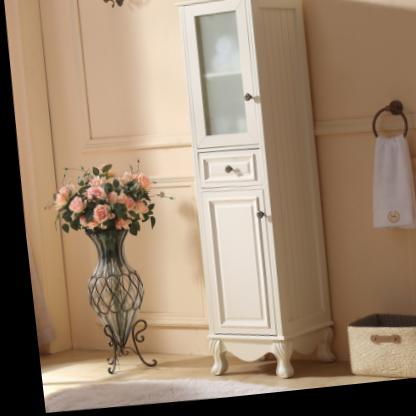Cupboard: (175, 0, 325, 382)
